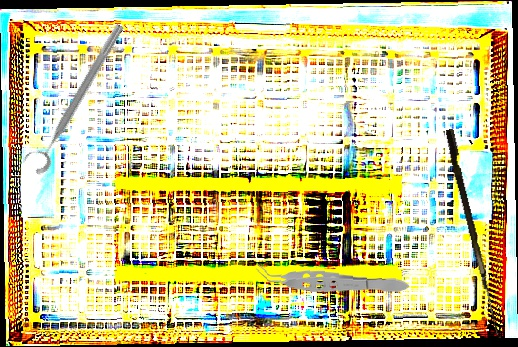Fixation Ring: (19, 16, 129, 178)
Hook Surgical: (441, 128, 508, 336)
Tissue Forceps: (253, 262, 410, 299)
